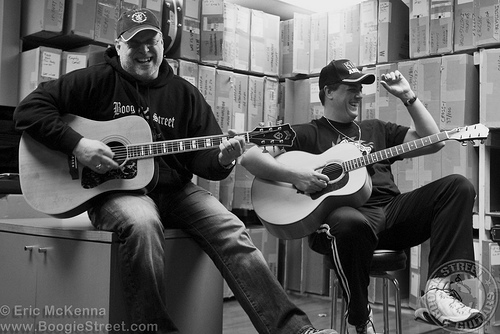guitar: (16, 113, 300, 221), (250, 122, 491, 241)
